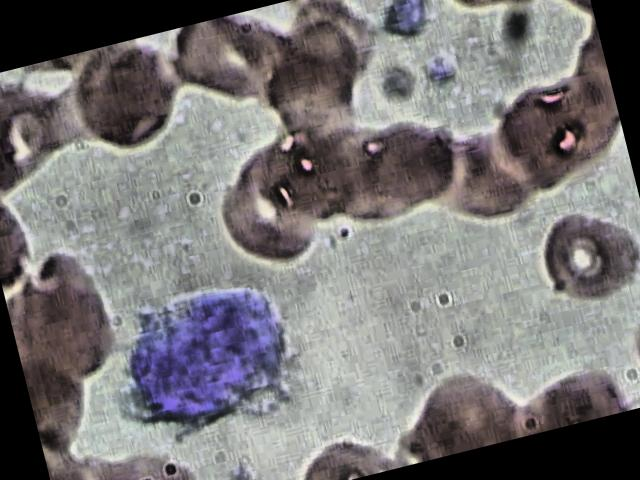Platelets: (371, 0, 434, 43), (419, 44, 464, 88), (215, 454, 259, 480)
RBC: (414, 106, 556, 237), (0, 237, 124, 387), (220, 112, 361, 243), (285, 112, 426, 243), (241, 11, 382, 142), (190, 152, 332, 282), (476, 66, 616, 197), (328, 96, 469, 226), (61, 29, 202, 159), (162, 4, 303, 134), (376, 108, 516, 238), (514, 190, 640, 321), (395, 355, 531, 464)
WBC: (101, 266, 312, 452)
